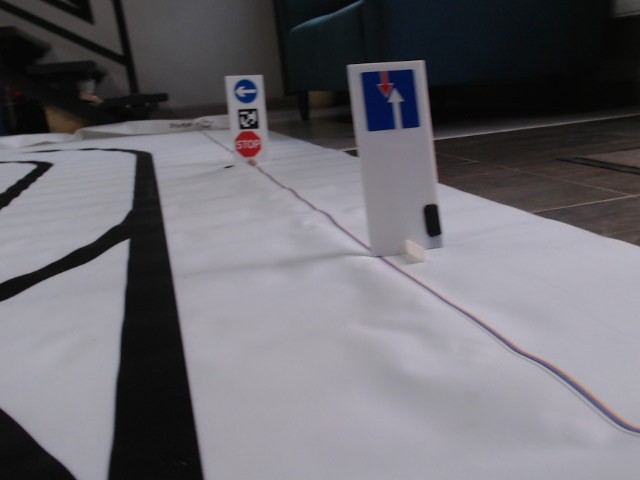Stop: (233, 129, 262, 159)
priority_movement: (357, 70, 421, 133)
